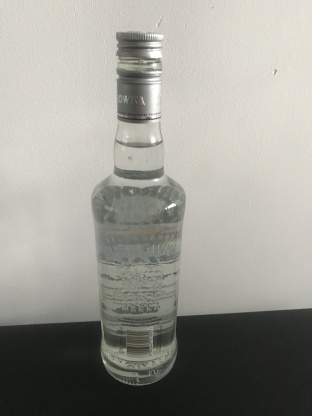nakretka: (114, 28, 164, 124)
